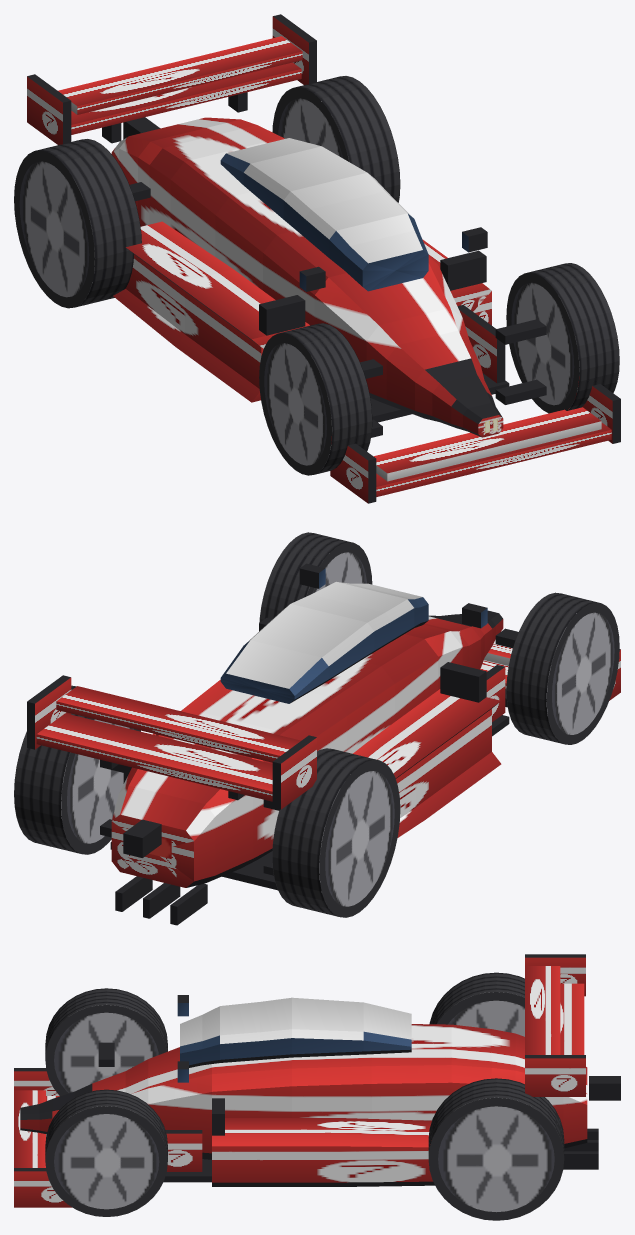
Rendered from racecar.obj.
3 renders of one model, top to bottom at view 1: azimuth 30°, elevation 25°; view 2: azimuth 150°, elevation 25°; view 3: azimuth 270°, elevation 25°, orthographic. The views are drawn at different scales.
Visible parts, largest first — view 1: racecar; view 2: racecar; view 3: racecar.
Part boxes in pixels (x1=…): racecar: x1=14, y1=14, x2=620, y2=503; racecar: x1=14, y1=532, x2=620, y2=925; racecar: x1=14, y1=954, x2=620, y2=1220.
Size of the model in its own units: 22.24 by 12.6 by 45.6.
Materials: 1 (1 with a texture image).
